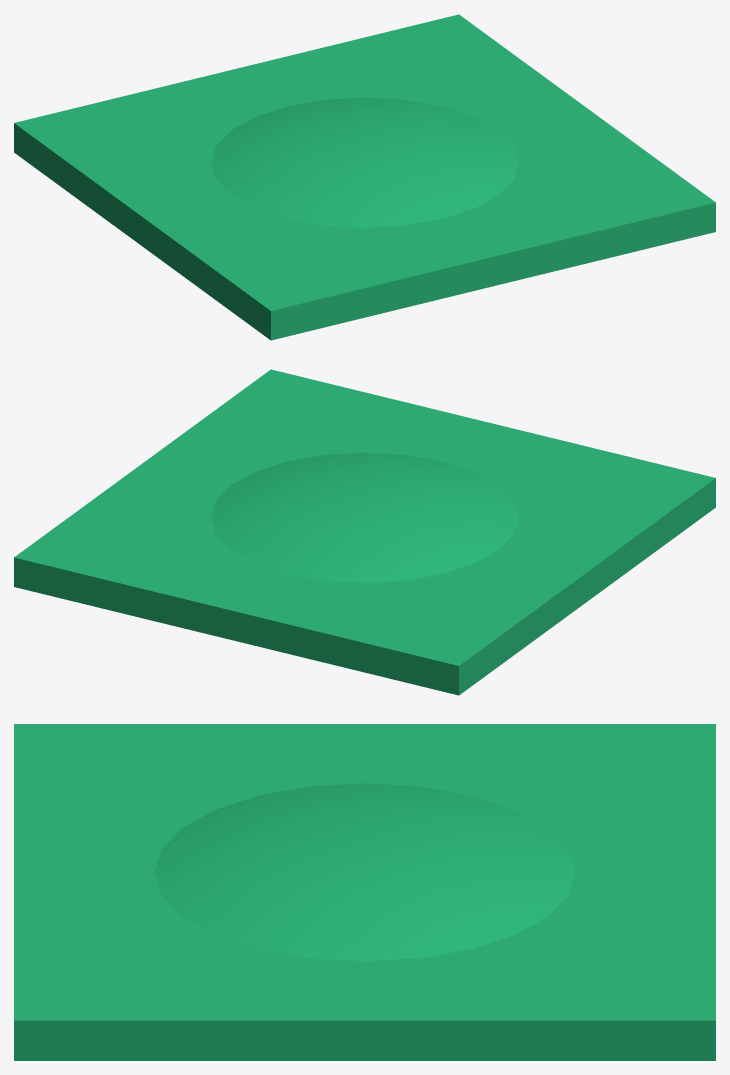
File: bump.obj
The picture shows the model from 3 angles, top to bottom: view 1: azimuth 30°, elevation 25°; view 2: azimuth 150°, elevation 25°; view 3: azimuth 270°, elevation 25°; orthographic projection. The views are drawn at different scales.
Parts seen in each view (by area): view 1: bump; view 2: bump; view 3: bump.
Part boxes in pixels (left/top/right/bottom): bump: left=14, top=14, right=715, bottom=340; bump: left=14, top=369, right=715, bottom=695; bump: left=14, top=724, right=715, bottom=1060.
Bounding box in the file's own units: 0.9999 × 0.0967 × 0.9999.
